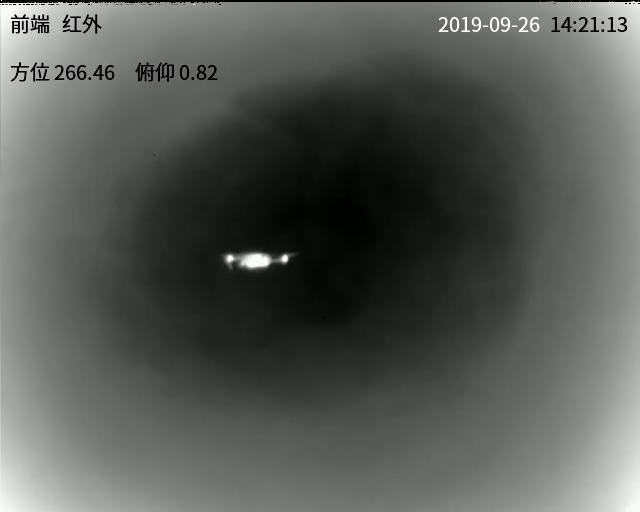uav: (219, 248, 296, 271)
